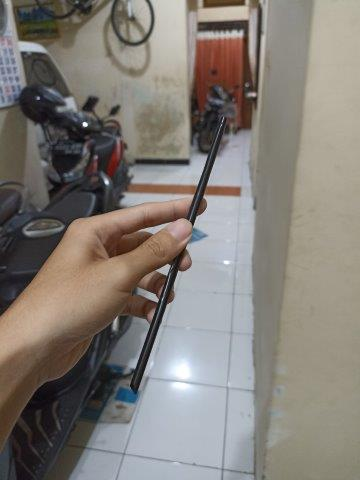sedotan: (132, 119, 225, 389)
